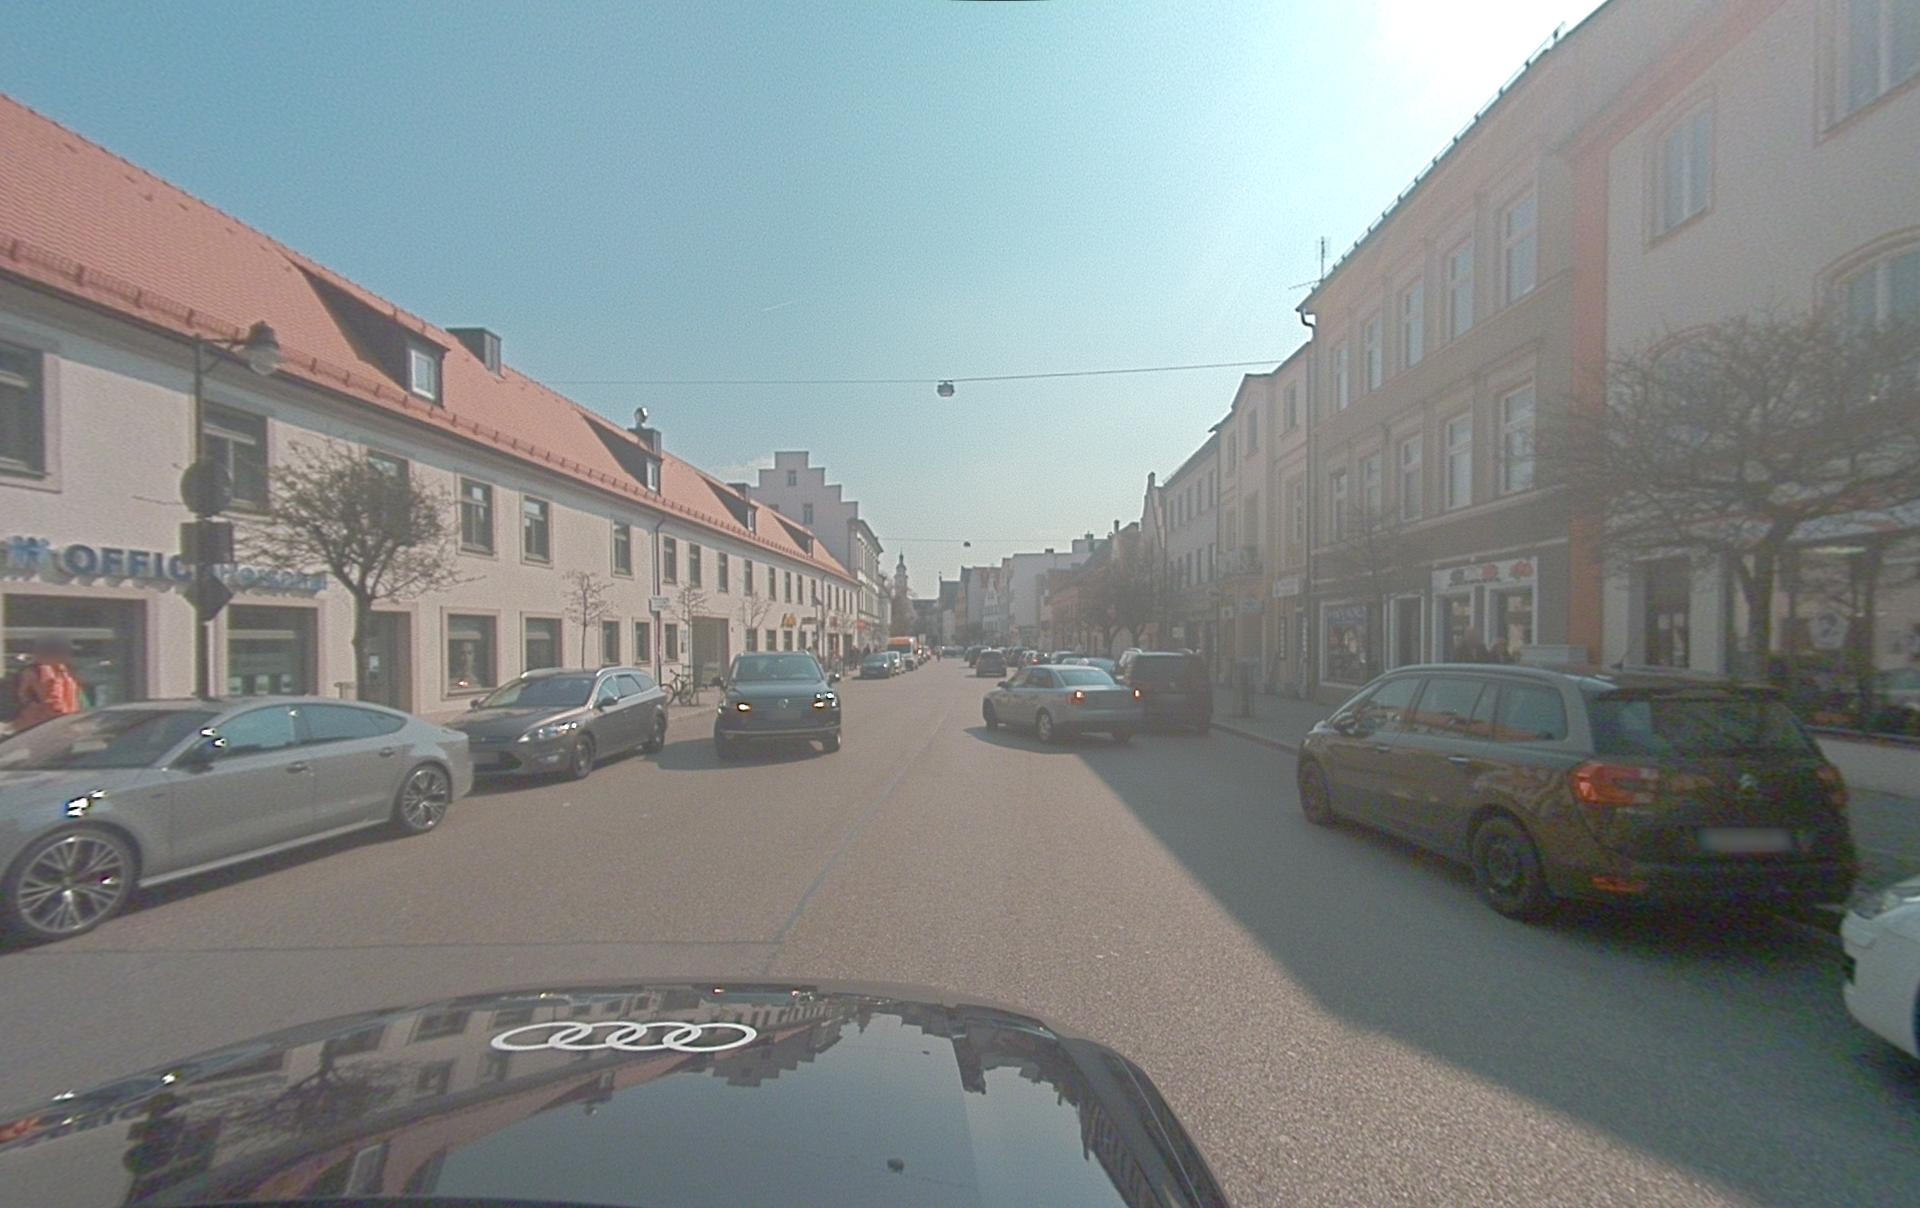car: (0, 977, 1235, 1207), (1297, 661, 1857, 923), (0, 694, 473, 946), (444, 665, 669, 782), (1838, 871, 1920, 1063), (714, 650, 842, 757), (982, 662, 1144, 743), (1117, 647, 1213, 735), (860, 653, 896, 678)
